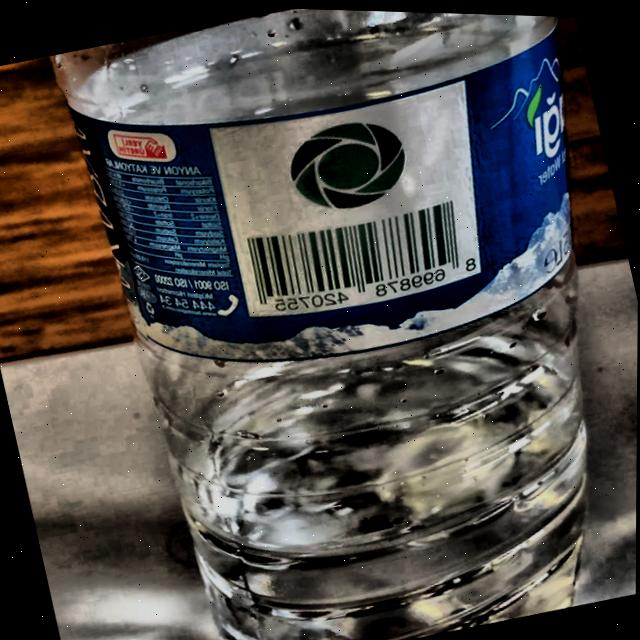plastic: (36, 7, 609, 640)
